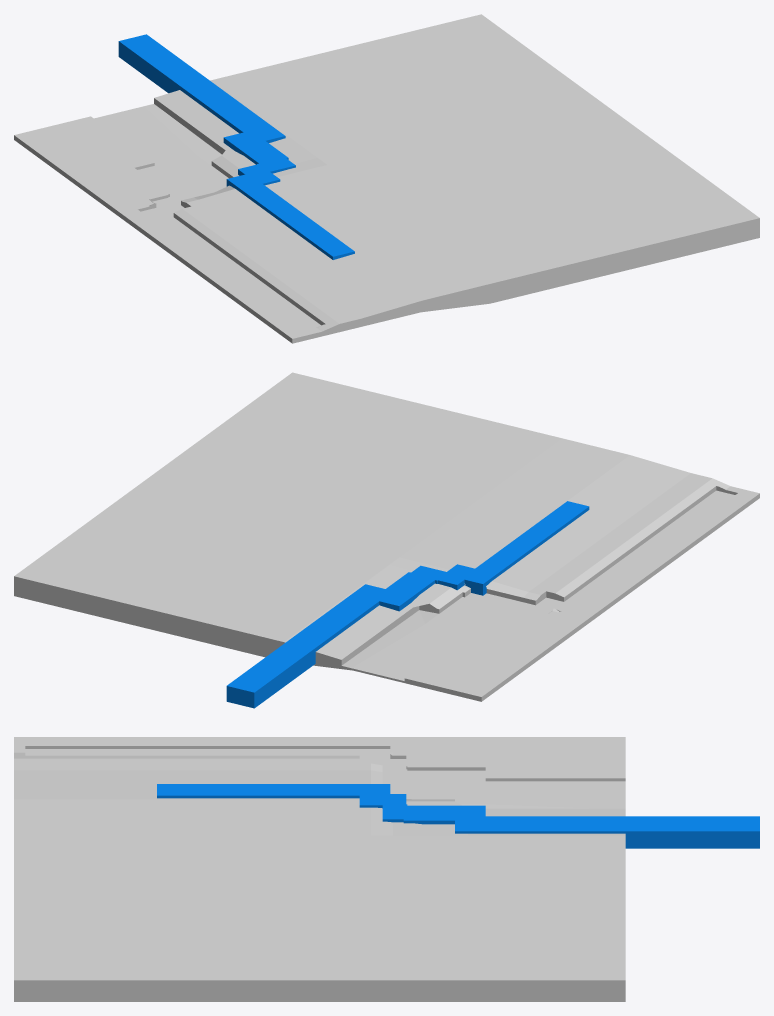
File: sm_river_bank.gltf
The picture shows the model from 3 angles, top to bottom: view 1: azimuth 30°, elevation 25°; view 2: azimuth 150°, elevation 25°; view 3: azimuth 270°, elevation 25°; orthographic projection. The views are drawn at different scales.
Parts seen in each view (by area): view 1: Cube, WaterCut2; view 2: Cube, WaterCut2; view 3: Cube, WaterCut2.
Boxes of the visible parts, box(x1,y1,x2,y2) form: Cube: box(14, 14, 759, 343); WaterCut2: box(118, 34, 354, 259); Cube: box(14, 372, 759, 701); WaterCut2: box(226, 501, 589, 708); Cube: box(14, 737, 625, 1001); WaterCut2: box(157, 784, 759, 848).
Size of the model in its own units: 247 by 11 by 311.
